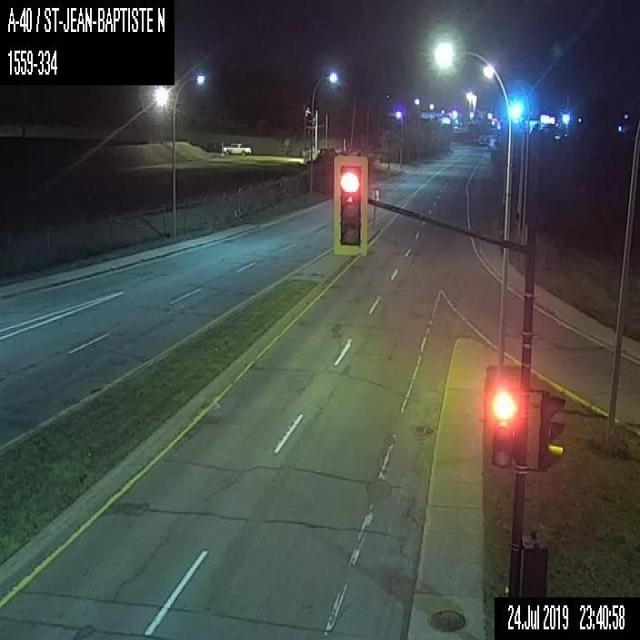vehicle: (222, 141, 250, 153)
